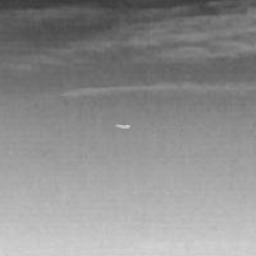Target: (114, 123, 130, 129)
